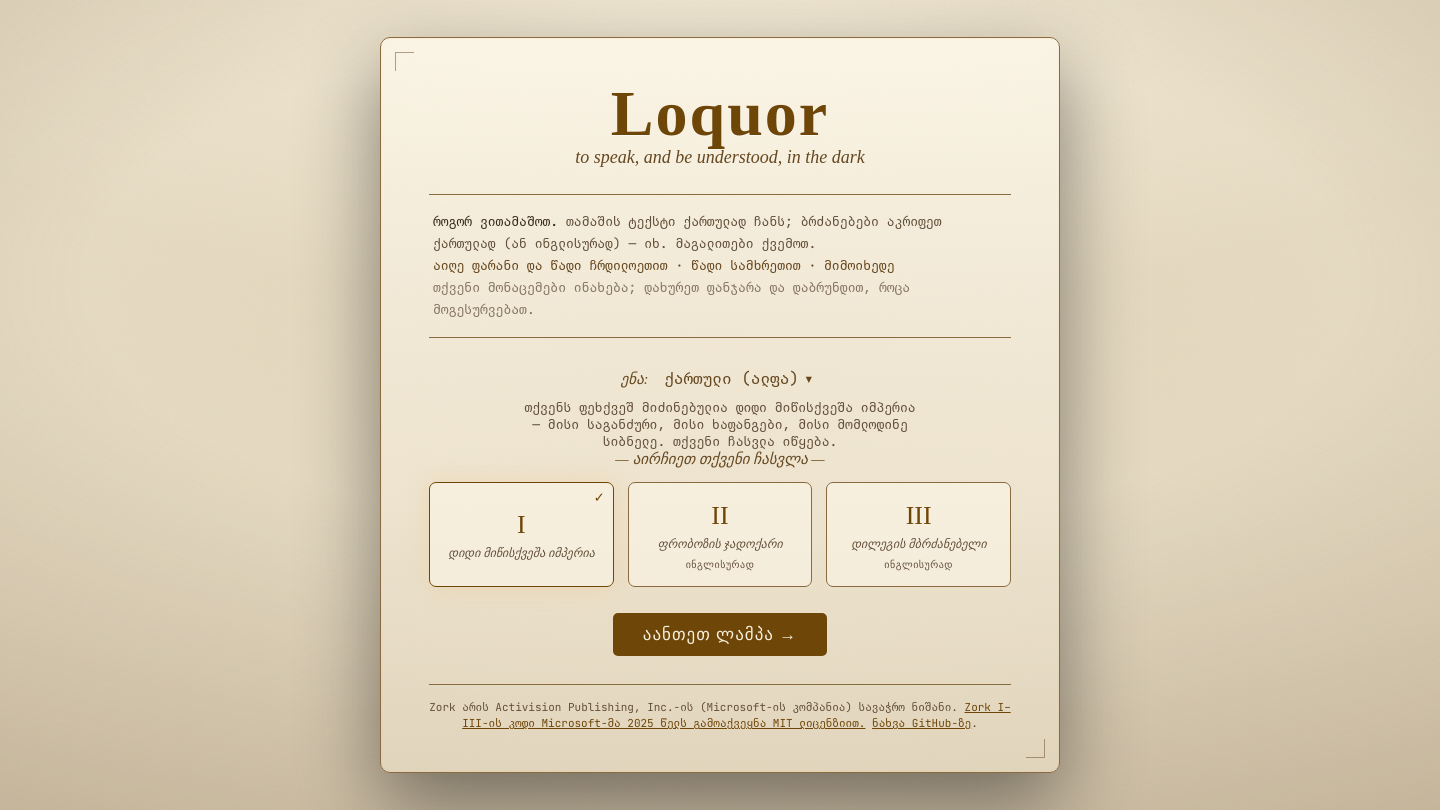
Scenario: Landing › Georgian Phase-2 input split (§5.6) › Zork II keeps the Phase-1 type-English copy + English examples voiced as en
Step 1. Click the text "ფრობოზის ჯადოქარი" → x=720, y=544, box [658,537,782,551]
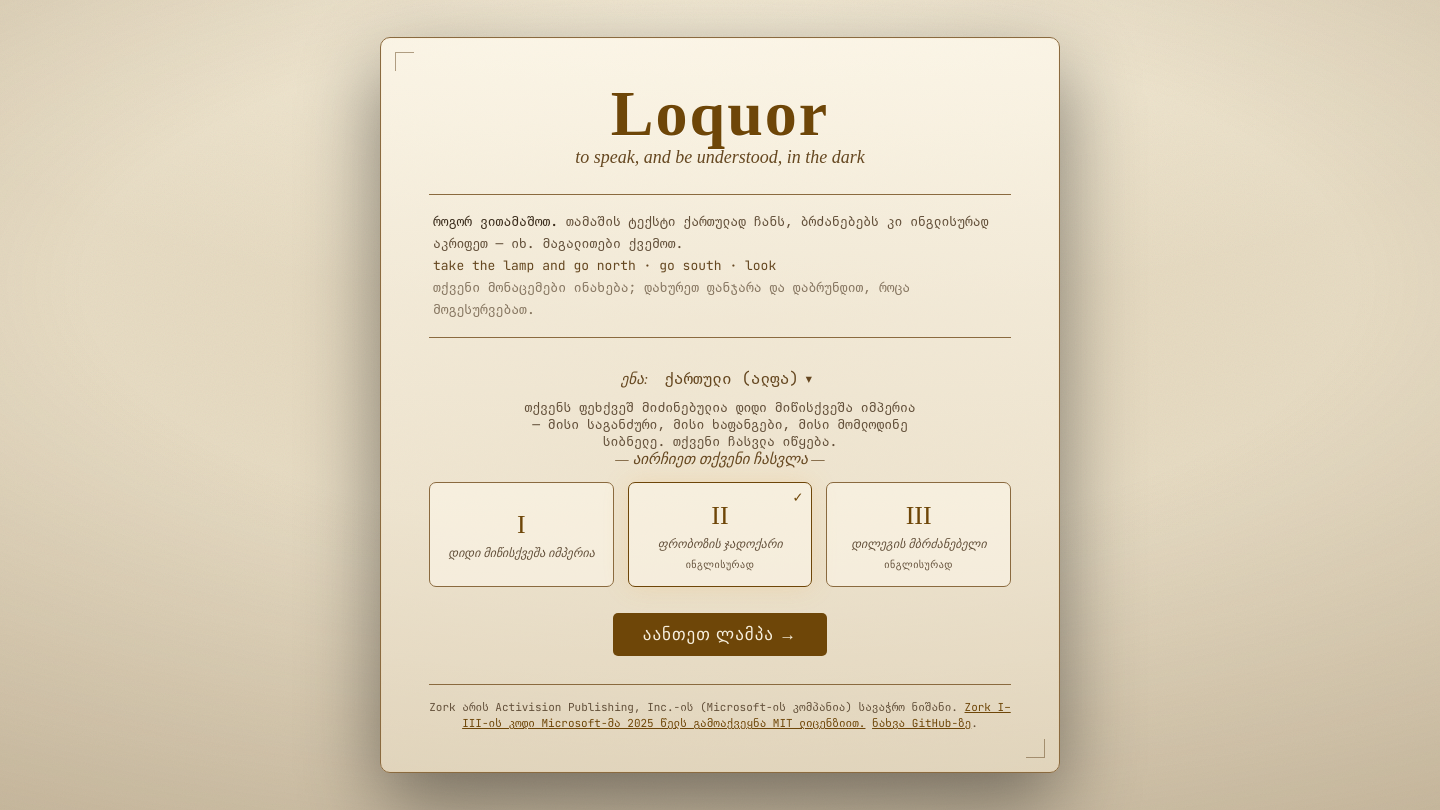
Now the element with class "howto" shows "ინგლისურად აკრიფეთ", box [433,213,988,252]
Now the element with class "howto" no longer shows "თამაშის ტექსტი ქართულად ჩანს; ბრძანებები აკრიფეთ ქართულად (ან ინგლისურად) — იხ. მაგალითები ქვემოთ."
